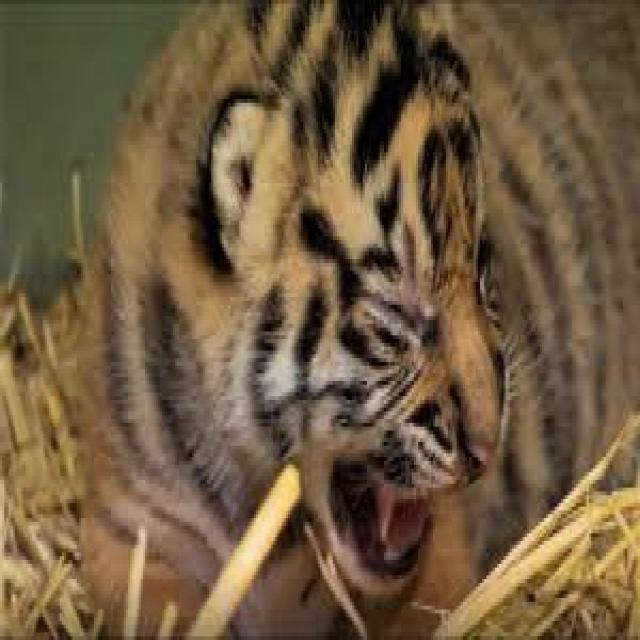tiger: (62, 0, 640, 636)
